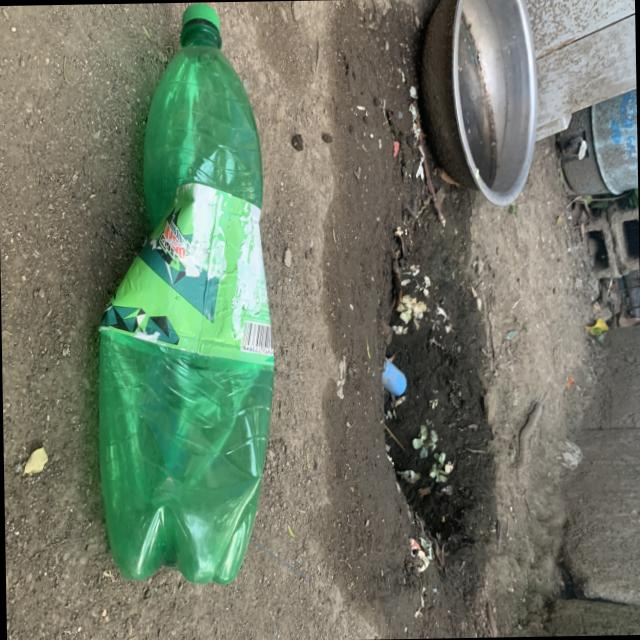Bottle: (97, 4, 272, 583)
